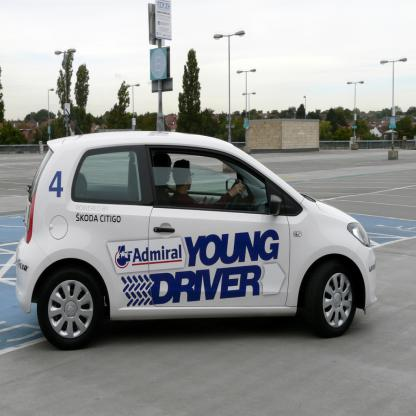Car: (15, 131, 377, 350)
